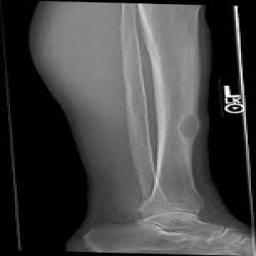cancer: (122, 5, 156, 202), (177, 113, 201, 157)
